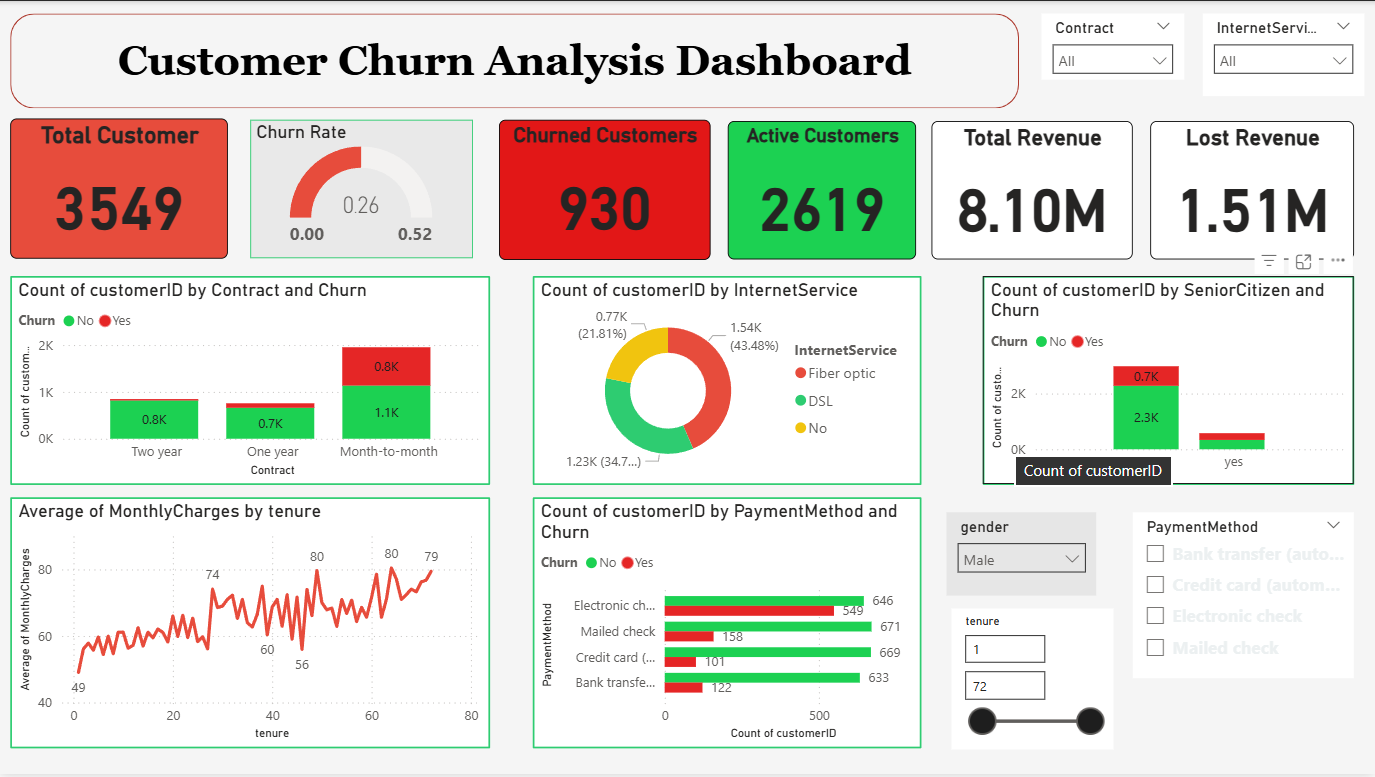

This screenshot's page, from the dashboard's own definition file:
{"tool":"powerbi","page":{"name":"Page 1","canvas":[1280,720],"ordinal":0},"visuals":[{"type":"card","title":"Total Customer ","fields":{"Values":["WA_Fn-UseC_-Telco-Customer-Churn (1).Total Customers"]},"box":[10.5,109.3,202.3,130.2],"z":0},{"type":"card","title":"Churned Customers","fields":{"Values":["WA_Fn-UseC_-Telco-Customer-Churn (1).Churned Customers"]},"box":[465.1,110.5,196.5,130.2],"z":1000},{"type":"card","title":"Active Customers","fields":{"Values":["WA_Fn-UseC_-Telco-Customer-Churn (1).Active Customers"]},"box":[677.9,111.6,175.6,129.1],"z":2000},{"type":"gauge","fields":{"Y":["WA_Fn-UseC_-Telco-Customer-Churn (1).Churn Rate"]},"box":[233.7,110.5,207,129.1],"z":3000},{"type":"card","title":"Total Revenue","fields":{"Values":["WA_Fn-UseC_-Telco-Customer-Churn (1).Total Revenue"]},"box":[867.4,111.6,187.2,129.1],"z":4000},{"type":"card","title":"Lost Revenue","fields":{"Values":["WA_Fn-UseC_-Telco-Customer-Churn (1).Lost Revenue"]},"box":[1070.9,111.6,189.5,129.1],"z":5000},{"type":"columnChart","fields":{"Category":["WA_Fn-UseC_-Telco-Customer-Churn (1).Contract"],"Series":["WA_Fn-UseC_-Telco-Customer-Churn (1).Churn"],"Y":["CountNonNull(WA_Fn-UseC_-Telco-Customer-Churn (1).customerID)"]},"box":[10.5,255.8,446.5,194.2],"z":6000},{"type":"donutChart","fields":{"Category":["WA_Fn-UseC_-Telco-Customer-Churn (1).InternetService"],"Y":["CountNonNull(WA_Fn-UseC_-Telco-Customer-Churn (1).customerID)"]},"box":[496.5,255.8,361.6,194.2],"z":7000},{"type":"lineChart","fields":{"Category":["WA_Fn-UseC_-Telco-Customer-Churn (1).tenure"],"Y":["Avg(WA_Fn-UseC_-Telco-Customer-Churn (1).MonthlyCharges)"]},"box":[10.5,461.6,446.5,233.7],"z":8000},{"type":"clusteredBarChart","fields":{"Category":["WA_Fn-UseC_-Telco-Customer-Churn (1).PaymentMethod"],"Y":["CountNonNull(WA_Fn-UseC_-Telco-Customer-Churn (1).customerID)"],"Series":["WA_Fn-UseC_-Telco-Customer-Churn (1).Churn"]},"box":[496.5,461.6,361.6,233.7],"z":9000},{"type":"columnChart","fields":{"Category":["WA_Fn-UseC_-Telco-Customer-Churn (1).SeniorCitizen"],"Y":["CountNonNull(WA_Fn-UseC_-Telco-Customer-Churn (1).customerID)"],"Series":["WA_Fn-UseC_-Telco-Customer-Churn (1).Churn"]},"box":[915.1,255.8,345.3,194.2],"z":10000},{"type":"slicer","fields":{"Values":["WA_Fn-UseC_-Telco-Customer-Churn (1).gender"]},"box":[881.4,475.6,139.5,77.9],"z":11000},{"type":"slicer","fields":{"Values":["WA_Fn-UseC_-Telco-Customer-Churn (1).Contract"]},"box":[969.8,11.6,132.6,61.6],"z":12000},{"type":"slicer","fields":{"Values":["WA_Fn-UseC_-Telco-Customer-Churn (1).InternetService"]},"box":[1119.8,11.6,150,76.7],"z":13000},{"type":"shape","box":[10.5,11.6,938.4,88.4],"z":14000},{"type":"slicer","fields":{"Values":["WA_Fn-UseC_-Telco-Customer-Churn (1).PaymentMethod"]},"box":[1054.7,475.6,205.8,154.7],"z":15000},{"type":"slicer","fields":{"Values":["WA_Fn-UseC_-Telco-Customer-Churn (1).tenure"]},"box":[886,565.1,150,130.2],"z":16000}]}

Visuals, with their boxes in screenshot pixels (x1, y1, x2, y2), scaled from the page's 1280x720 canvas onto the 1375x777 screenshot:
"Total Customer " card: detection(11, 118, 229, 258)
"Churned Customers" card: detection(500, 119, 711, 260)
"Active Customers" card: detection(728, 120, 917, 260)
gauge - WA_Fn-UseC_-Telco-Customer-Churn (1).Churn Rate: detection(251, 119, 473, 259)
"Total Revenue" card: detection(932, 120, 1133, 260)
"Lost Revenue" card: detection(1150, 120, 1354, 260)
columnChart - WA_Fn-UseC_-Telco-Customer-Churn (1).Contract x WA_Fn-UseC_-Telco-Customer-Churn (1).Churn: detection(11, 276, 491, 486)
donutChart - WA_Fn-UseC_-Telco-Customer-Churn (1).InternetService x CountNonNull(WA_Fn-UseC_-Telco-Customer-Churn (1).customerID): detection(533, 276, 922, 486)
lineChart - WA_Fn-UseC_-Telco-Customer-Churn (1).tenure x Avg(WA_Fn-UseC_-Telco-Customer-Churn (1).MonthlyCharges): detection(11, 498, 491, 750)
clusteredBarChart - WA_Fn-UseC_-Telco-Customer-Churn (1).PaymentMethod x CountNonNull(WA_Fn-UseC_-Telco-Customer-Churn (1).customerID): detection(533, 498, 922, 750)
columnChart - WA_Fn-UseC_-Telco-Customer-Churn (1).SeniorCitizen x CountNonNull(WA_Fn-UseC_-Telco-Customer-Churn (1).customerID): detection(983, 276, 1354, 486)
slicer - WA_Fn-UseC_-Telco-Customer-Churn (1).gender: detection(947, 513, 1097, 597)
slicer - WA_Fn-UseC_-Telco-Customer-Churn (1).Contract: detection(1042, 13, 1184, 79)
slicer - WA_Fn-UseC_-Telco-Customer-Churn (1).InternetService: detection(1203, 13, 1364, 95)
shape: detection(11, 13, 1019, 108)
slicer - WA_Fn-UseC_-Telco-Customer-Churn (1).PaymentMethod: detection(1133, 513, 1354, 680)
slicer - WA_Fn-UseC_-Telco-Customer-Churn (1).tenure: detection(952, 610, 1113, 750)
